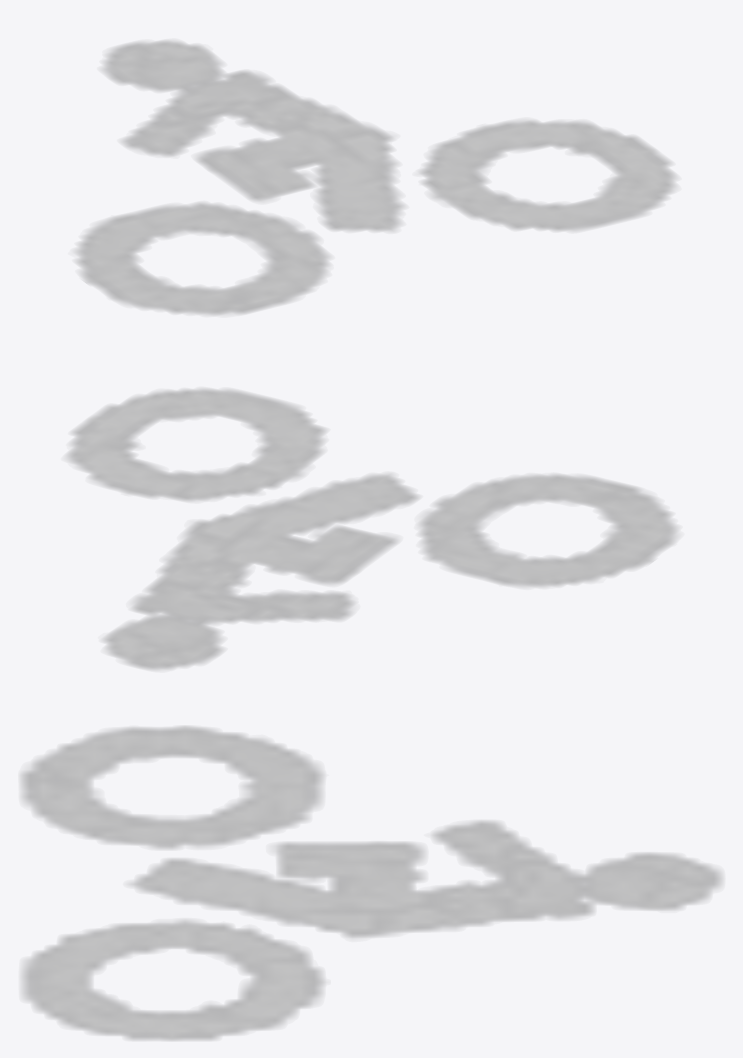
Rendered from decal_bikelane.glb.
The picture shows the model from 3 angles, top to bottom: view 1: azimuth 30°, elevation 25°; view 2: azimuth 150°, elevation 25°; view 3: azimuth 270°, elevation 25°; orthographic projection. The views are drawn at different scales.
Visible parts, largest first — view 1: Decal_Bikelane; view 2: Decal_Bikelane; view 3: Decal_Bikelane.
Part boxes in pixels (x1,y1,x2,y2): Decal_Bikelane: (76, 40, 675, 314); Decal_Bikelane: (67, 389, 676, 669); Decal_Bikelane: (21, 726, 722, 1040).
Bounding box in the file's own units: 2.97 × 0 × 2.82.
Materials: 1 (1 with a texture image).
